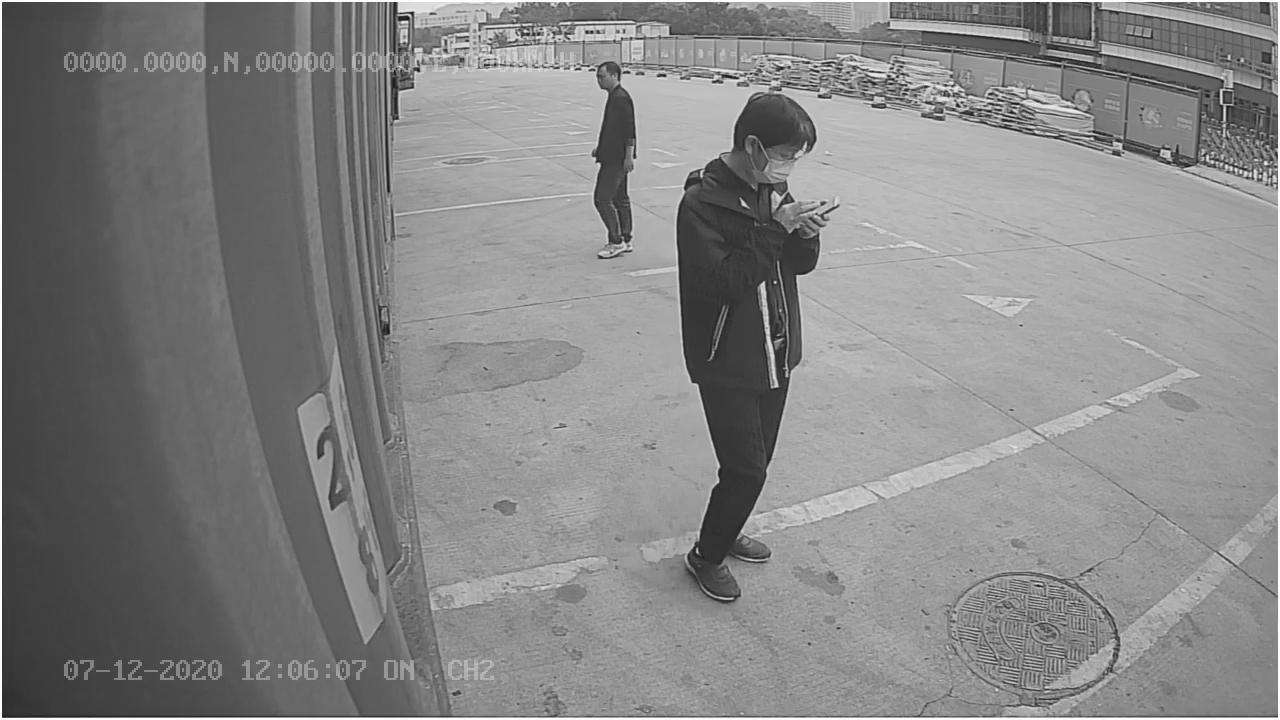person: (675, 90, 827, 601)
